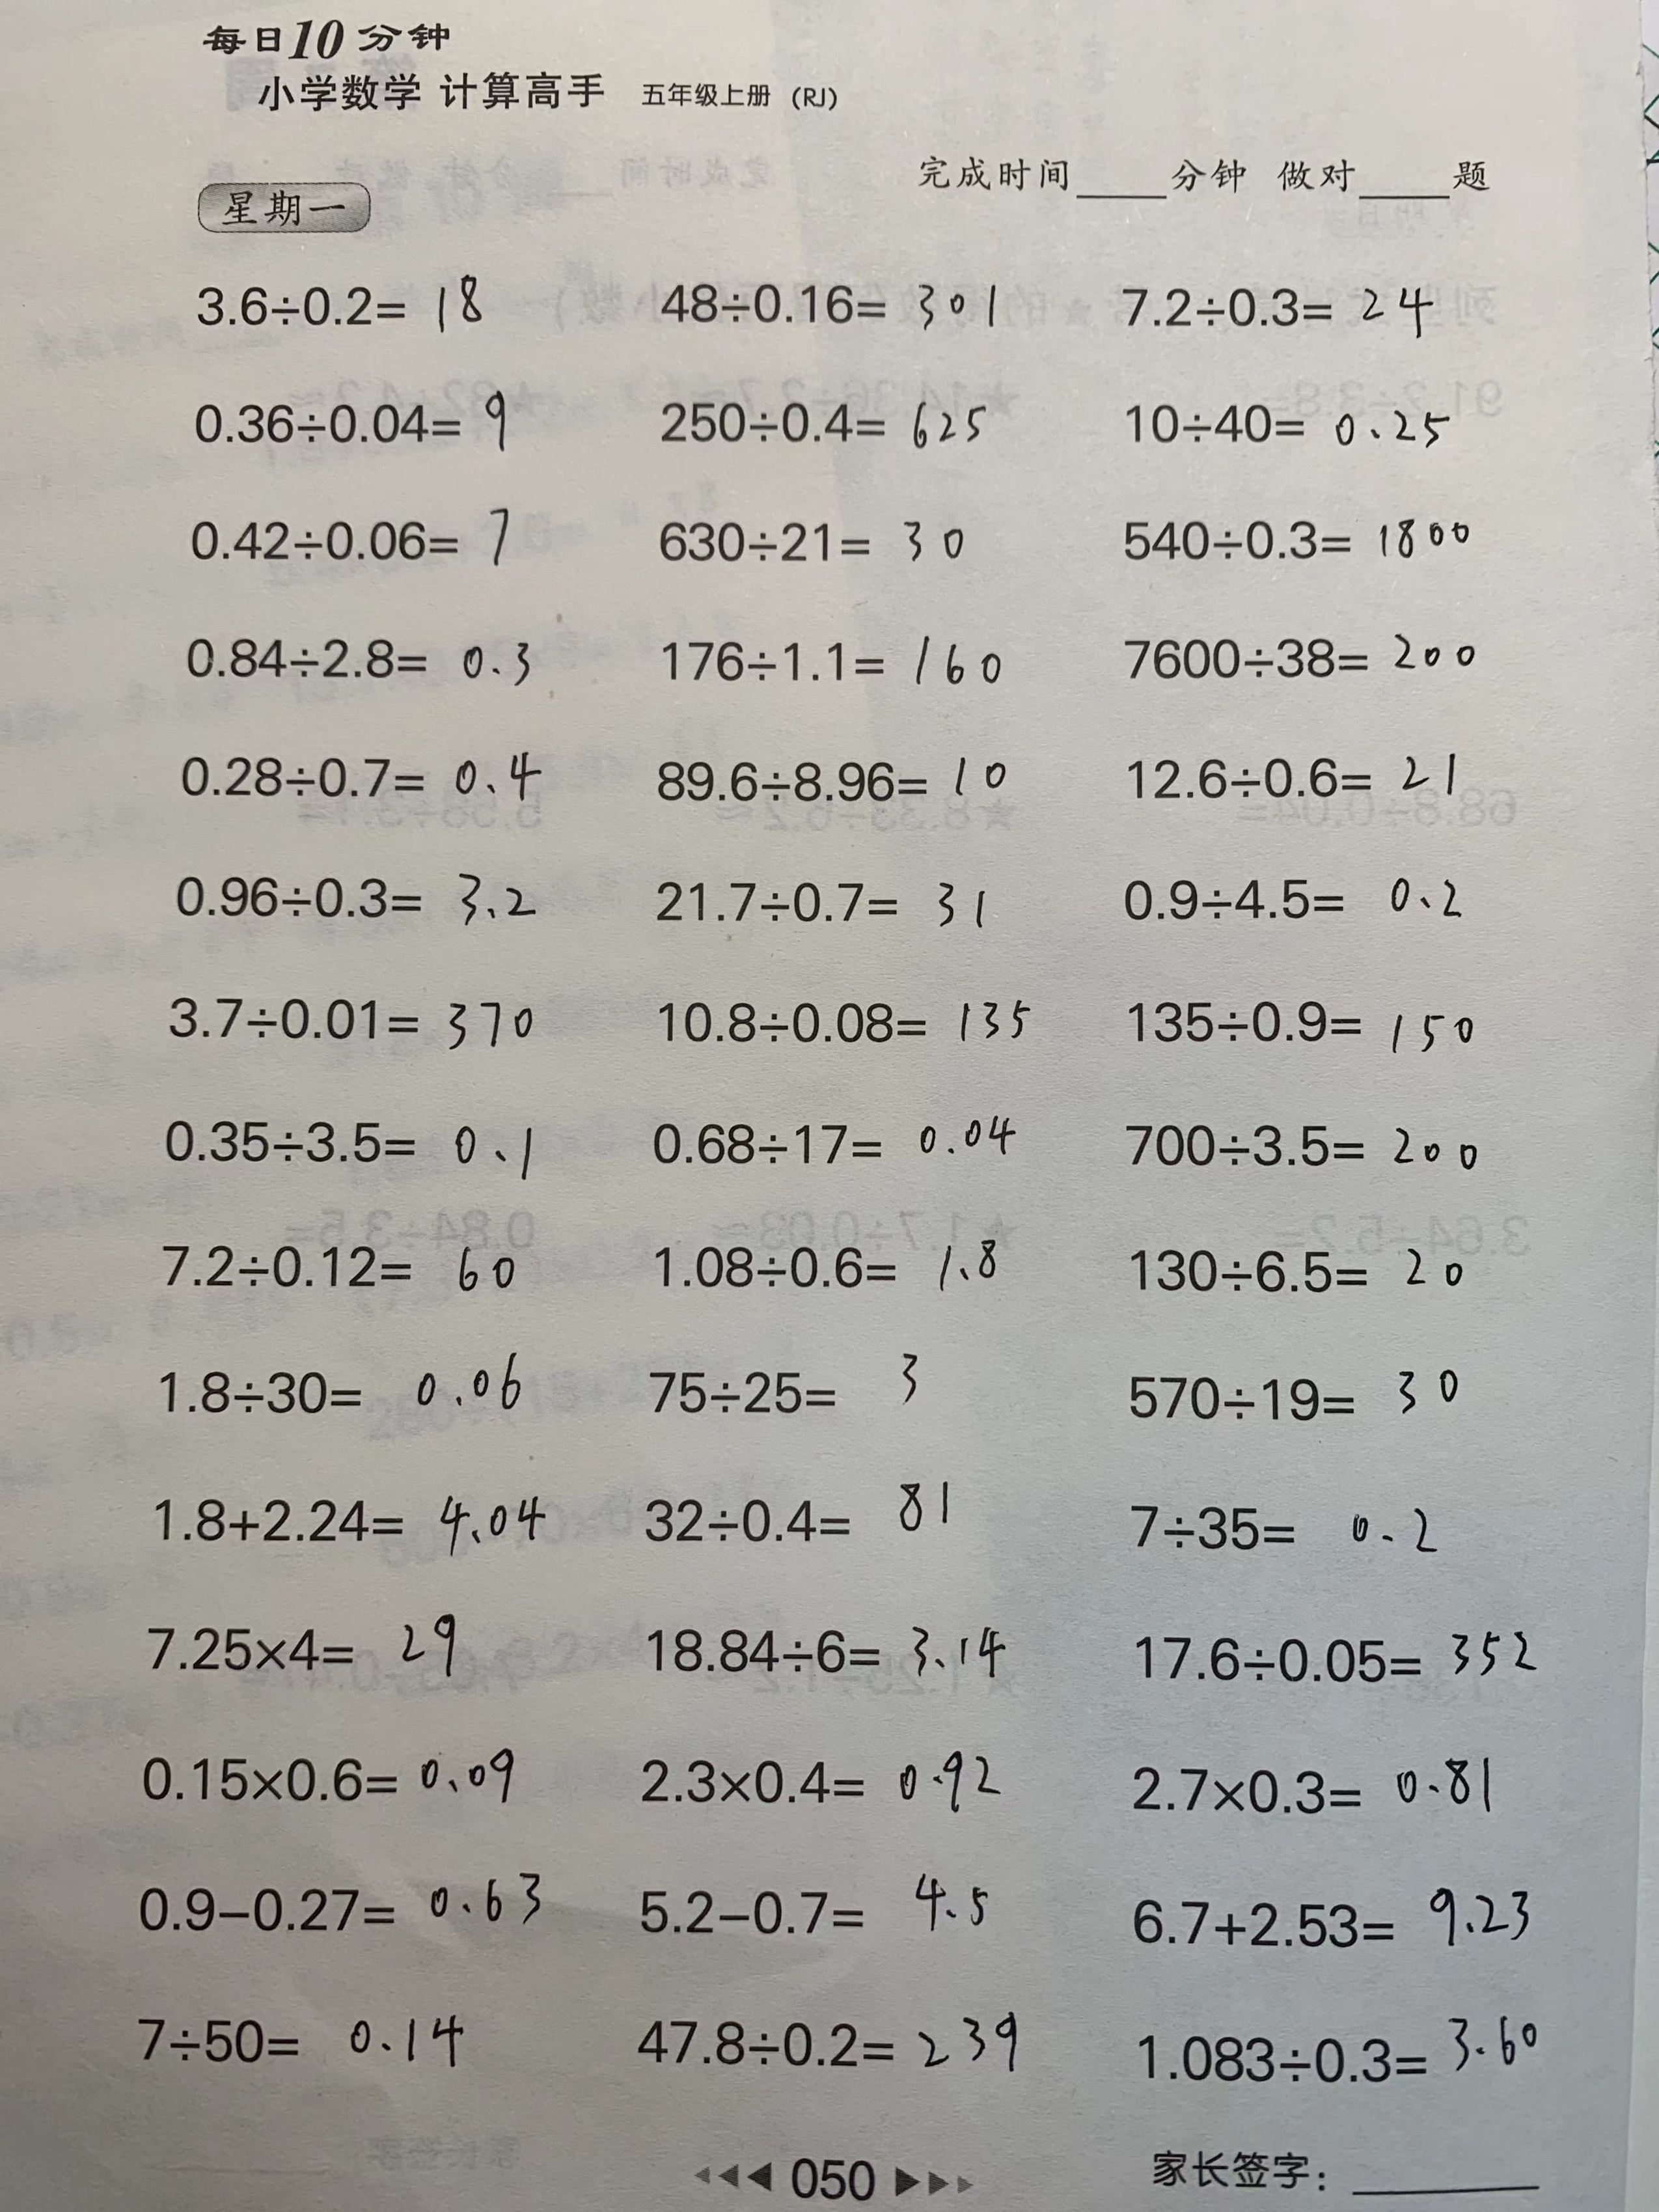equation: (152, 1473, 552, 1574), (146, 1222, 533, 1313), (145, 1344, 533, 1433), (1131, 2013, 1549, 2093), (1122, 1877, 1540, 1958), (1117, 1360, 1469, 1454), (633, 1741, 1012, 1825), (169, 495, 519, 586), (127, 1863, 551, 1938), (131, 1600, 481, 1687), (631, 2005, 1028, 2081), (1122, 1621, 1546, 1693), (164, 741, 542, 819), (132, 1740, 525, 1815), (152, 1109, 542, 1184), (179, 377, 514, 464), (633, 1330, 938, 1424), (166, 863, 547, 938), (627, 1869, 995, 1944), (174, 622, 542, 697), (1122, 1748, 1499, 1822), (118, 2008, 476, 2085), (183, 263, 495, 350), (645, 1231, 1007, 1306), (1114, 987, 1481, 1060), (641, 1618, 1018, 1689), (157, 987, 542, 1056), (650, 624, 1012, 694), (1114, 1112, 1488, 1178), (641, 1109, 1023, 1173), (633, 1476, 960, 1551), (645, 746, 1014, 812), (1112, 624, 1485, 689), (652, 992, 1042, 1053), (652, 274, 1009, 340), (1122, 1239, 1474, 1306), (1114, 868, 1474, 933), (1112, 279, 1443, 349), (650, 872, 995, 938), (652, 392, 995, 458), (1117, 746, 1466, 811), (1112, 509, 1480, 570), (1117, 1496, 1446, 1562), (1114, 396, 1457, 457), (650, 509, 976, 570)
